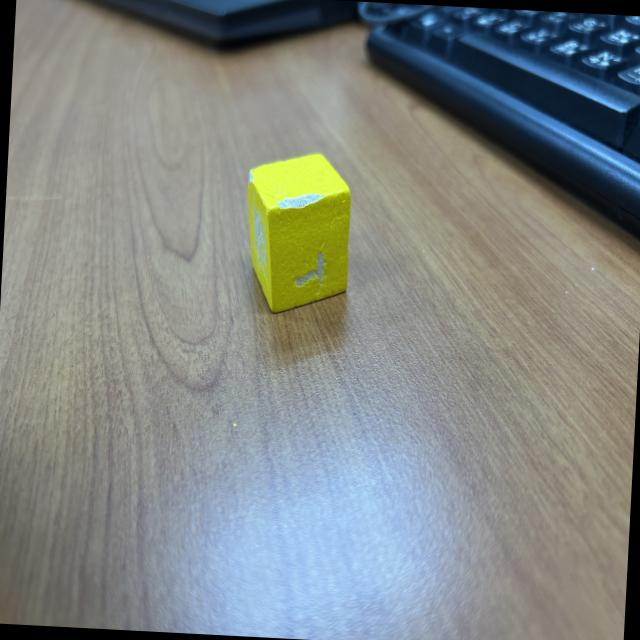broken: (240, 148, 356, 318)
